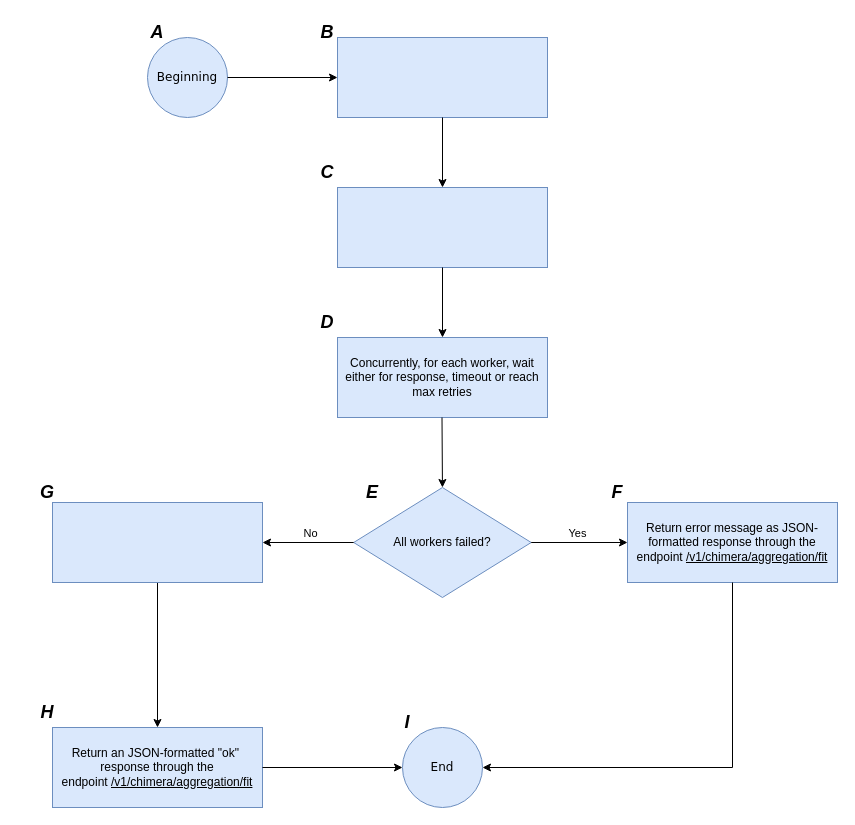
This 855x825 diagram has some shape labels left out. The box of each missing label's shape, as (x1, y1, x2, y2) in pixels:
Receive an "ok" message from the responsive workers (status code 200): (52, 502, 262, 582)
Receive Client's HTTP request by the endpoint /v1/chimera/aggregation/fit: (336, 36, 548, 118)
Request fit to each worker through the endpoint /v1/chimera/model/fit: (336, 186, 548, 268)
